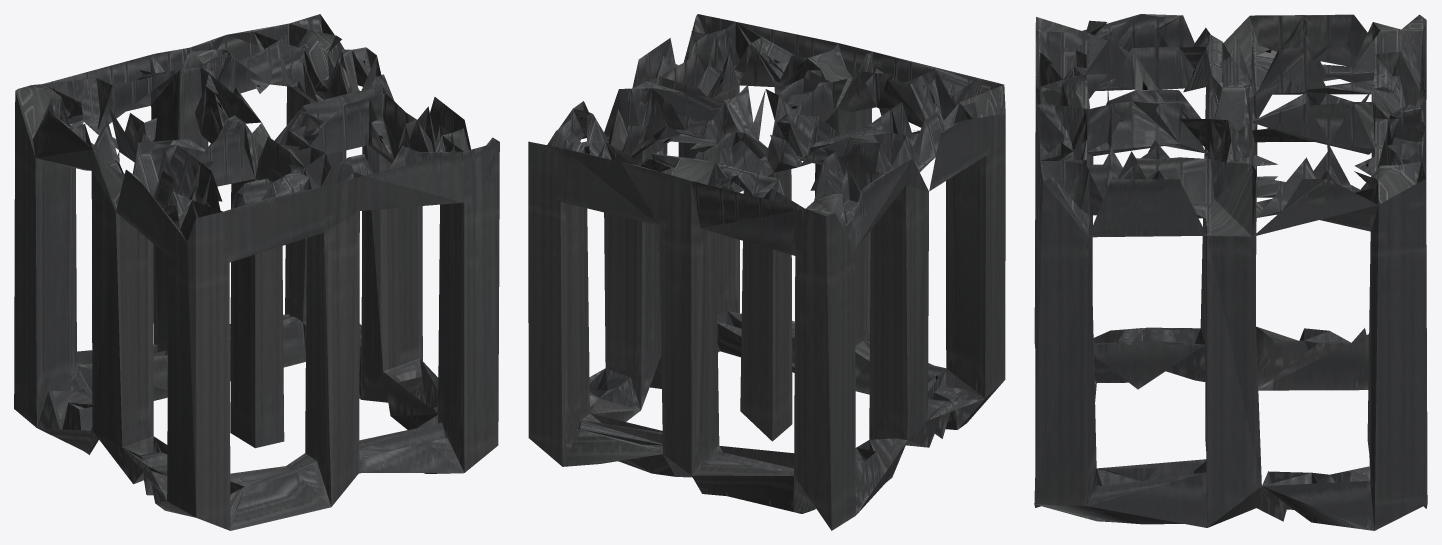
3 renders of one model, left to right at view 1: azimuth 30°, elevation 25°; view 2: azimuth 150°, elevation 25°; view 3: azimuth 270°, elevation 25°, orthographic. The views are drawn at different scales.
Visible parts, largest first — view 1: plastic-pallet; view 2: plastic-pallet; view 3: plastic-pallet.
Part boxes in pixels (box(x1,y1,x2,y2)): plastic-pallet: box(14, 14, 499, 530); plastic-pallet: box(528, 14, 1005, 530); plastic-pallet: box(1034, 14, 1427, 530).
Bounding box in the file's own units: 1 × 1 × 1.
Materials: 1 (1 with a texture image).
